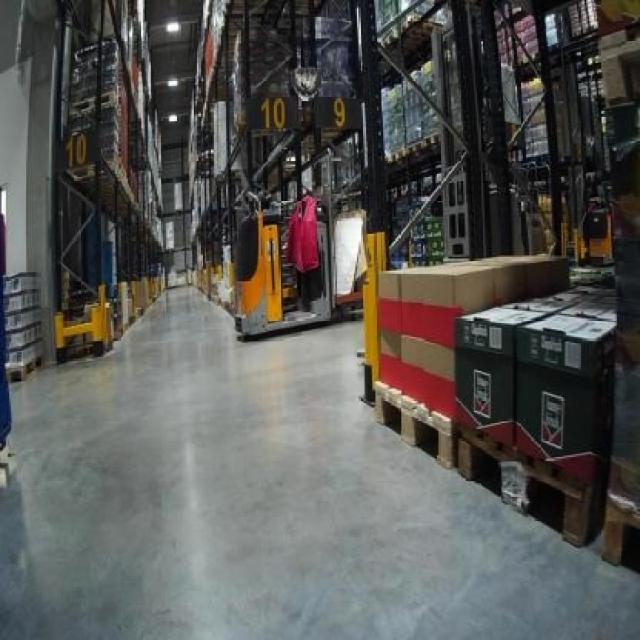floor: (0, 286, 637, 637)
pallets: (374, 254, 612, 542), (377, 254, 565, 415)
